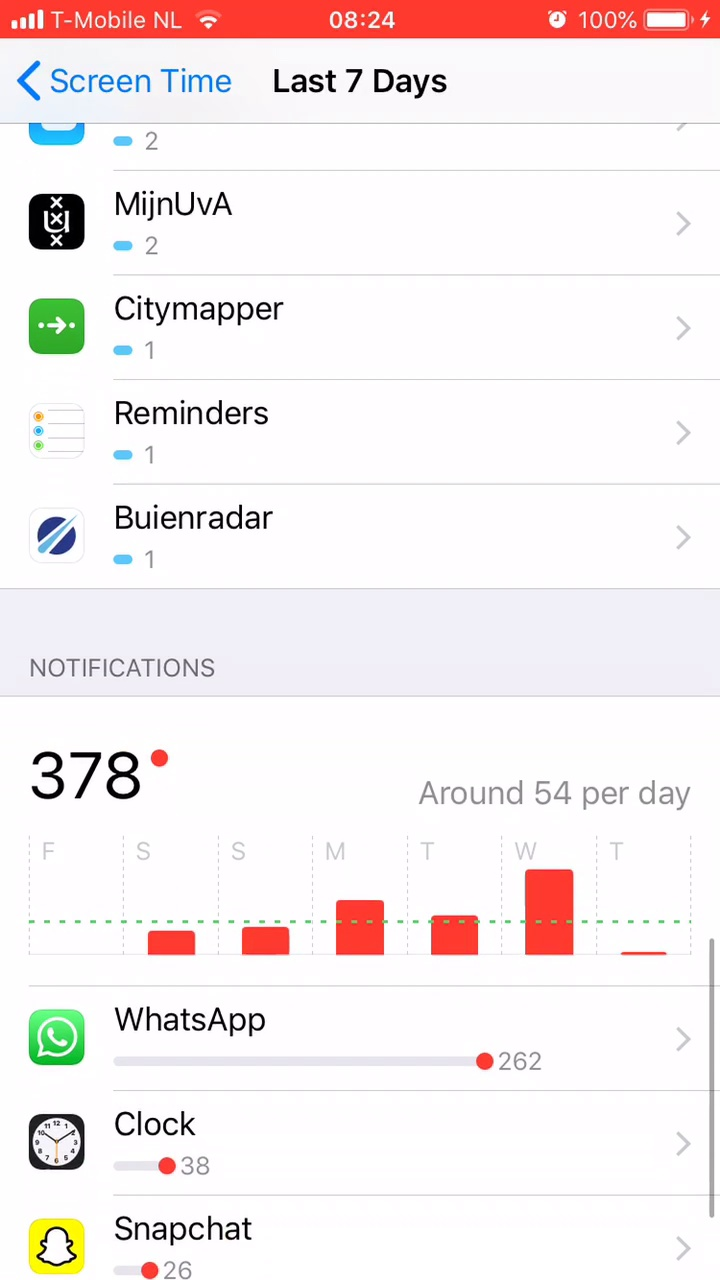not_app: (15, 989, 568, 1087), (14, 1099, 344, 1182), (20, 1211, 274, 1280)
not_over: (20, 627, 261, 813)
pick_app: (15, 382, 295, 479), (15, 283, 301, 377), (14, 491, 299, 580), (14, 173, 260, 275)
week: (258, 56, 462, 111)
